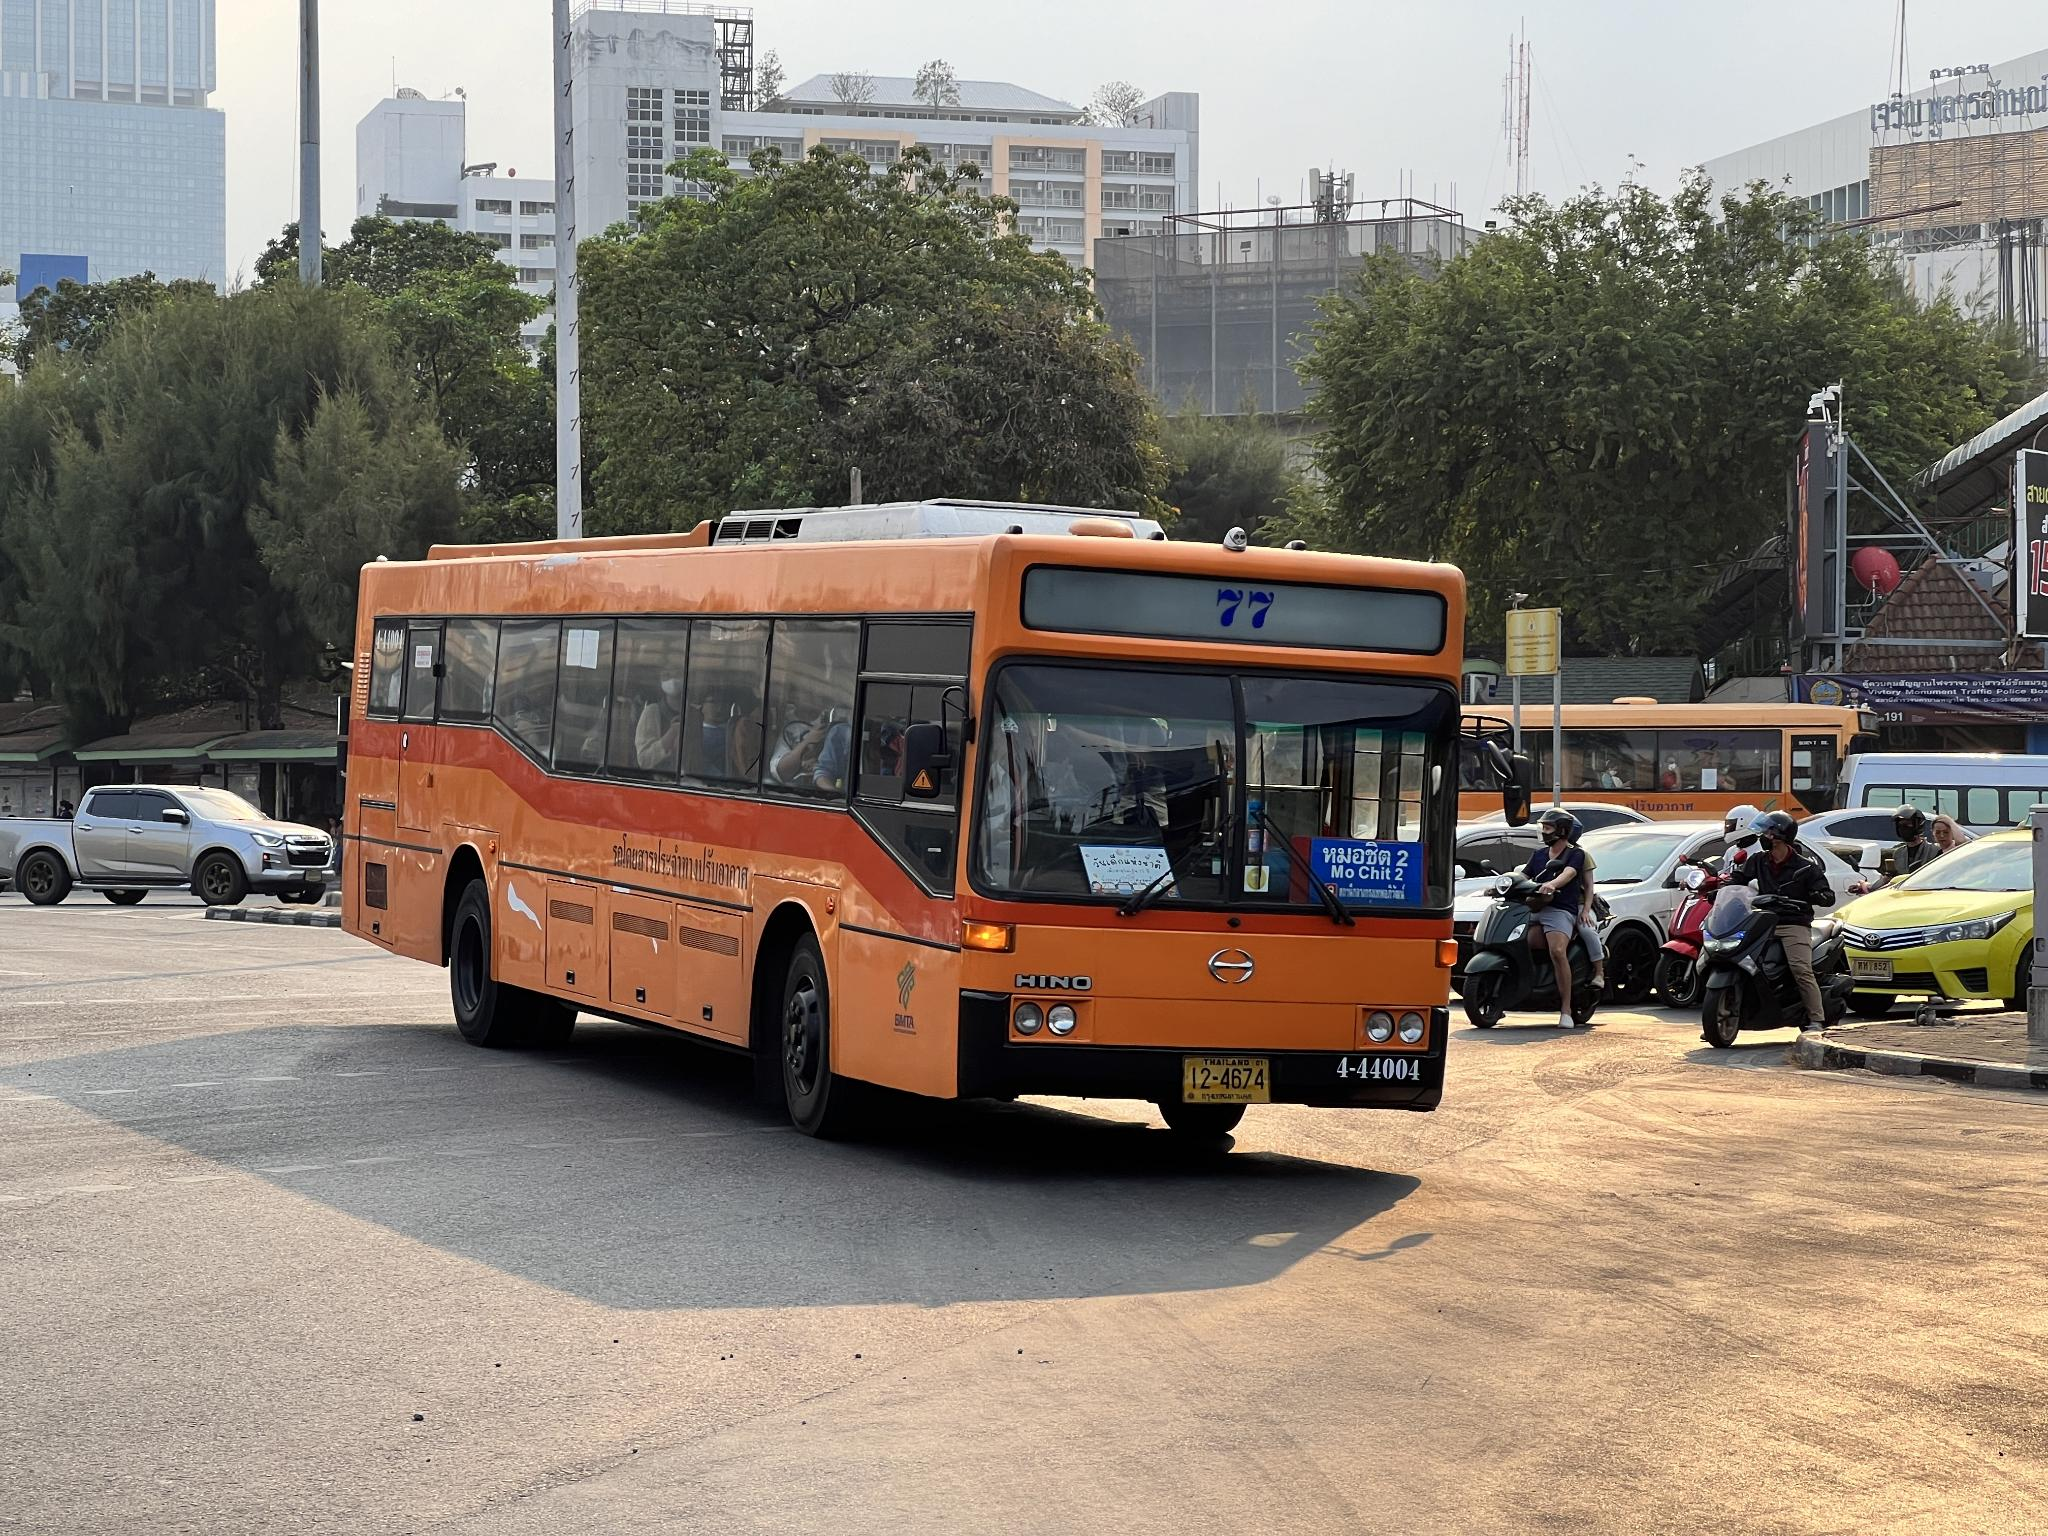BMTA-bus: (332, 505, 1471, 1154), (1469, 700, 1869, 826)
Bus Line Number: (1182, 573, 1305, 645)
Bus Side Number: (1329, 1050, 1426, 1089)
Destination Sign: (1311, 841, 1422, 907)
